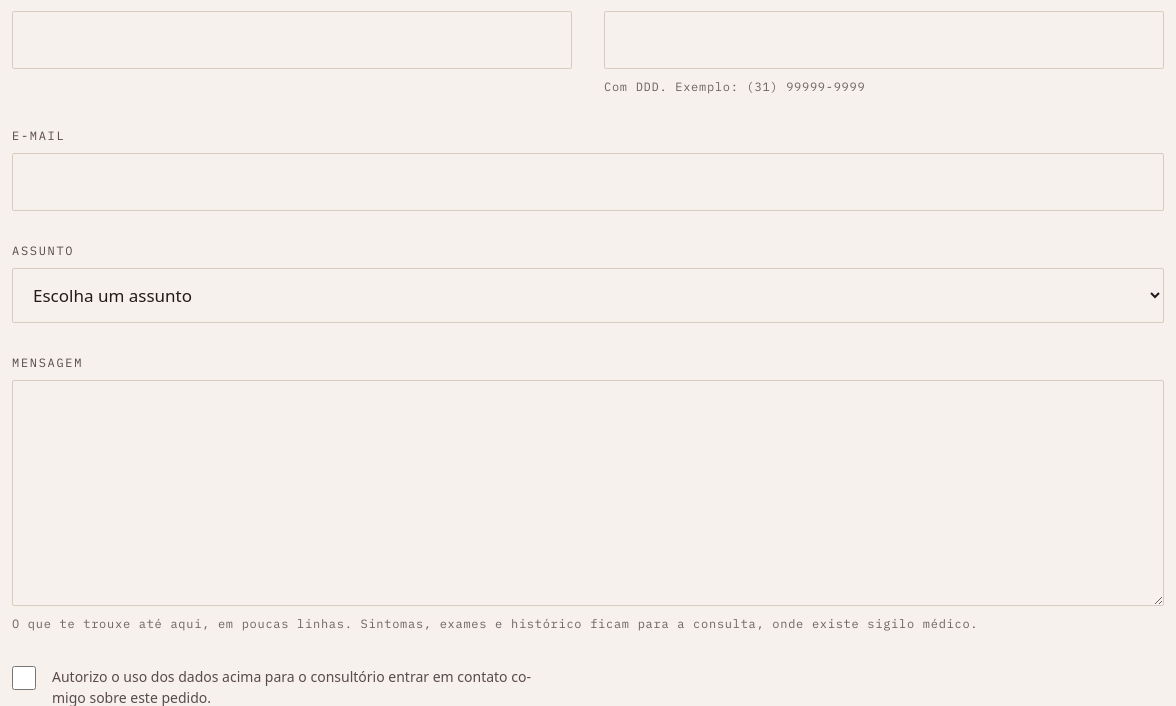
Test: FormularioContato › com e-mail inválido, o foco vai para o e-mail e o erro é ligado ao campo
The image size is (1176, 706).
Step 1. Type "Maria de Souza" into the field labelled "Nome" → coordinates (292, 40), box x1=12 y1=11 x2=572 y2=69
Step 2. Type "(31) 99999-9999" into the field labelled "WhatsApp" → coordinates (884, 40), box x1=604 y1=11 x2=1164 y2=69
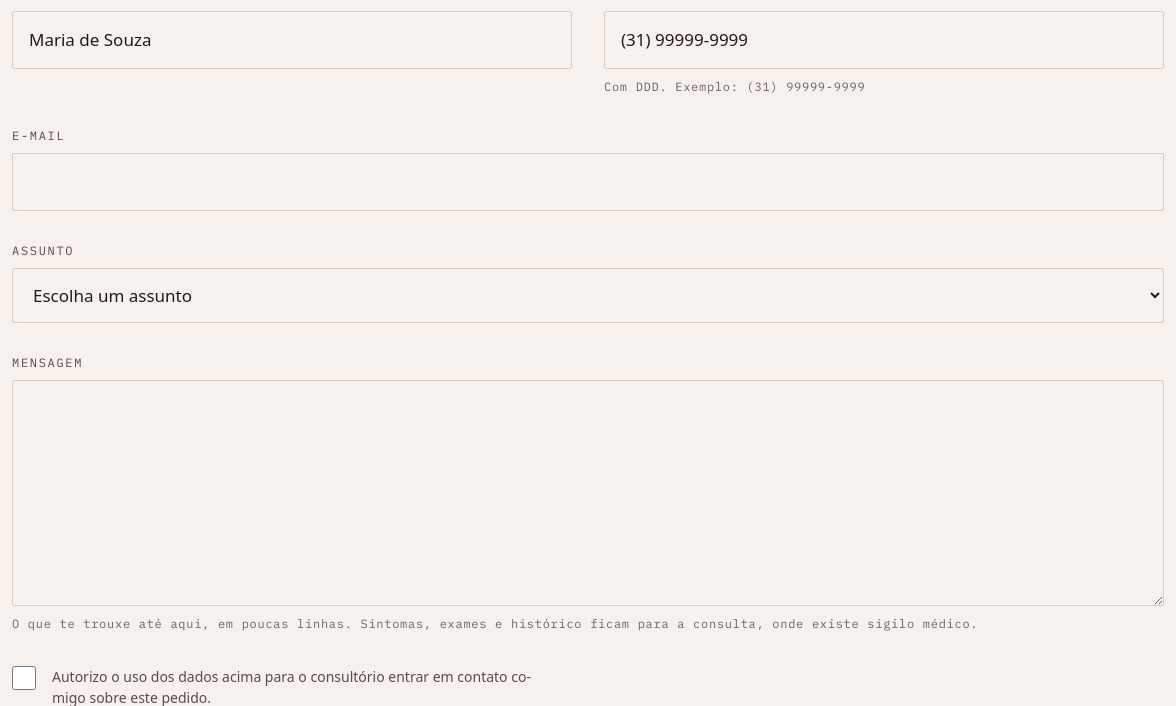
Step 3. Type "maria arroba exemplo" into the field labelled "E-mail" → coordinates (588, 182), box x1=12 y1=153 x2=1164 y2=211
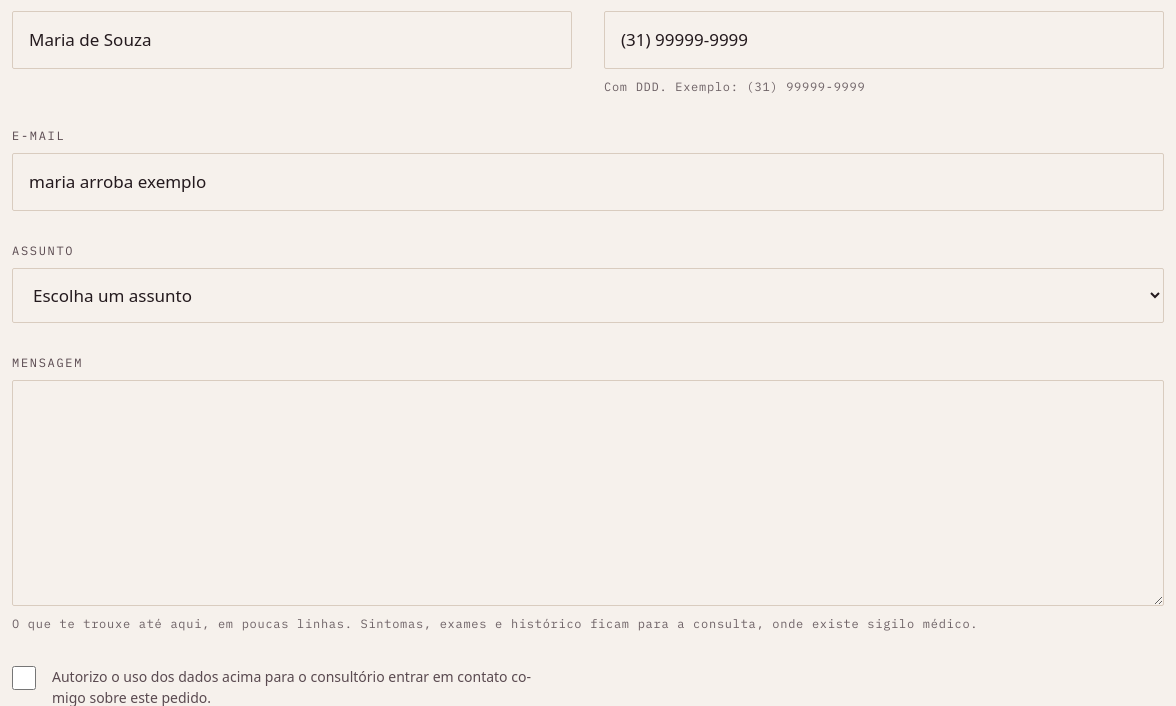
Step 4. Select "Rinoplastia" in the dropdown labelled "Assunto" → coordinates (588, 296), box x1=12 y1=268 x2=1164 y2=323
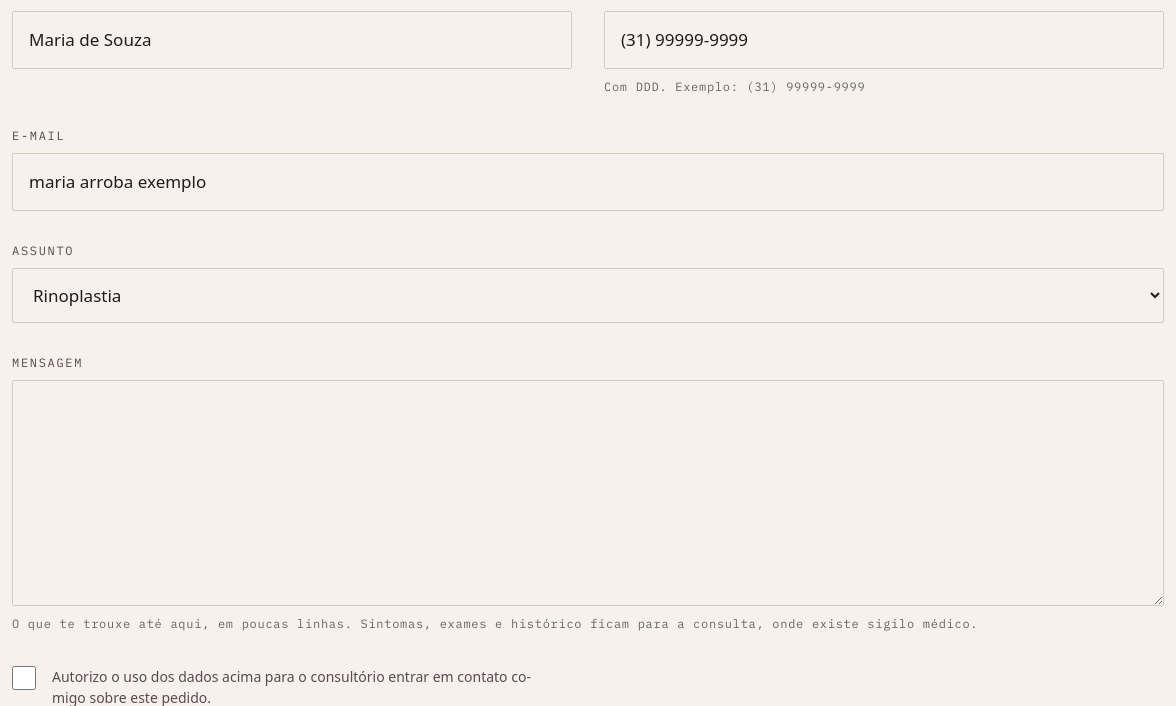
Step 5. Type "Gostaria de avaliar a respiração e marcar uma consulta." into the text box labelled "Mensagem" → coordinates (588, 493), box x1=12 y1=380 x2=1164 y2=606
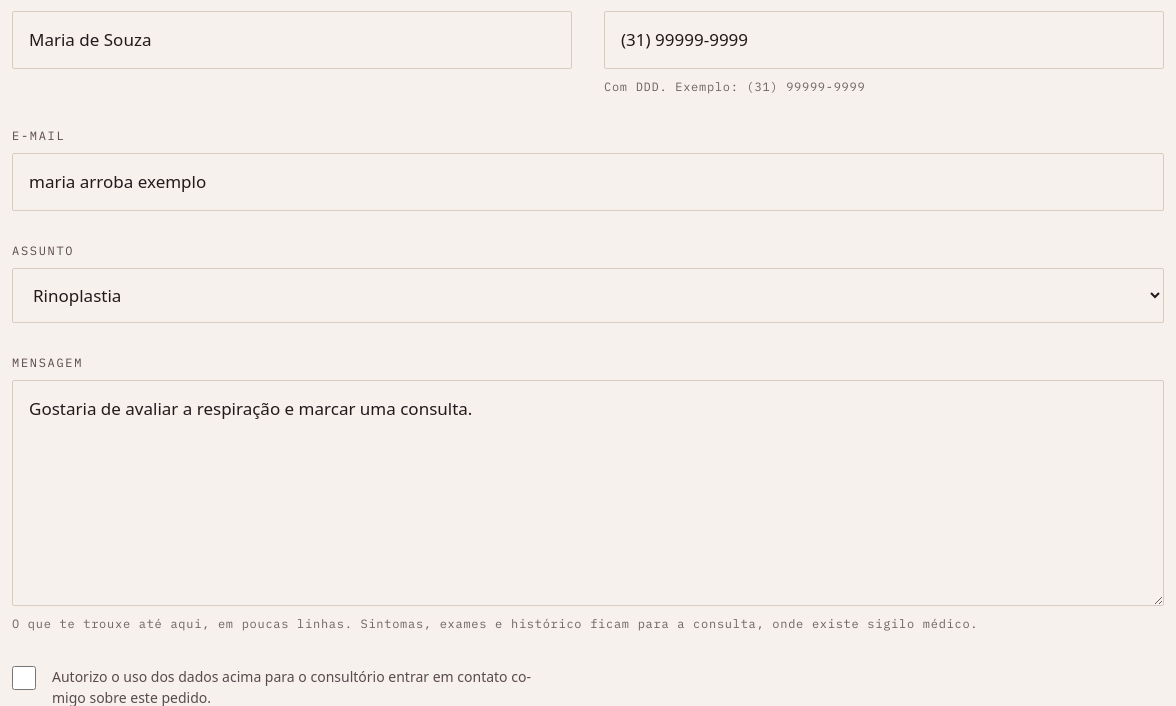
Step 6. Click the checkbox → coordinates (24, 678), box x1=12 y1=666 x2=36 y2=690
(page scrolled)
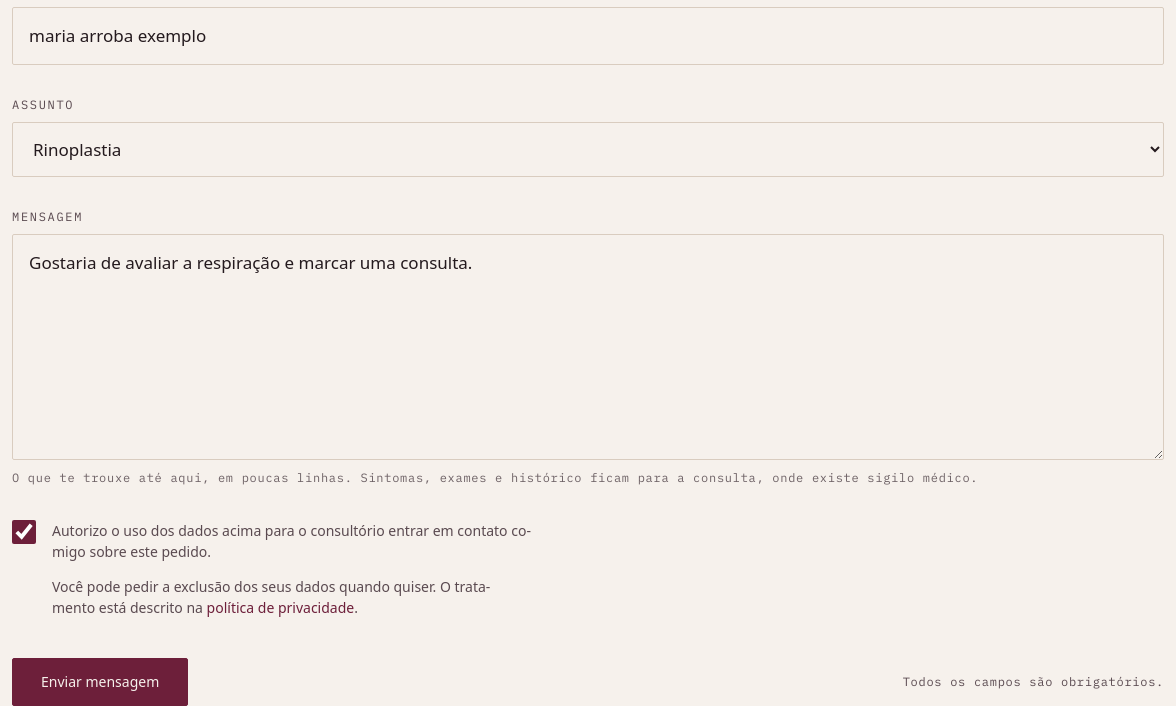
Step 7. Click the button "Enviar mensagem" → coordinates (100, 682), box x1=12 y1=658 x2=188 y2=705
(page scrolled)
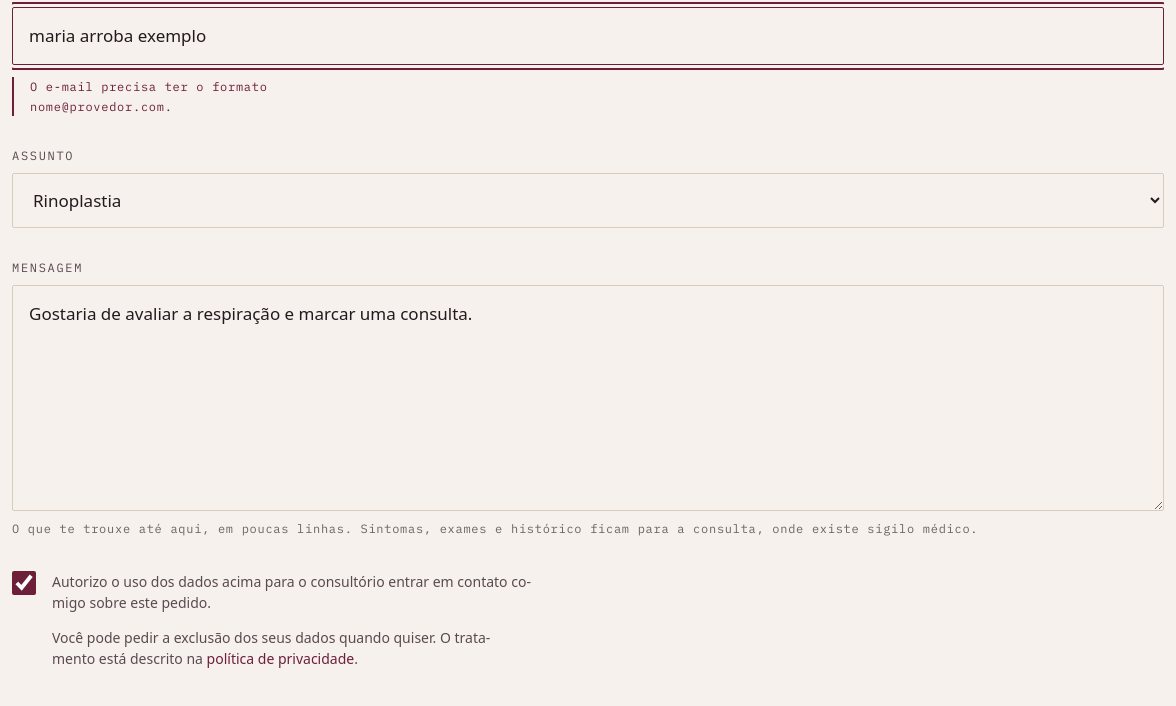
Now the text with id "contato-email-erro" shows "nome@provedor.com", box x1=30 y1=79 x2=268 y2=114
